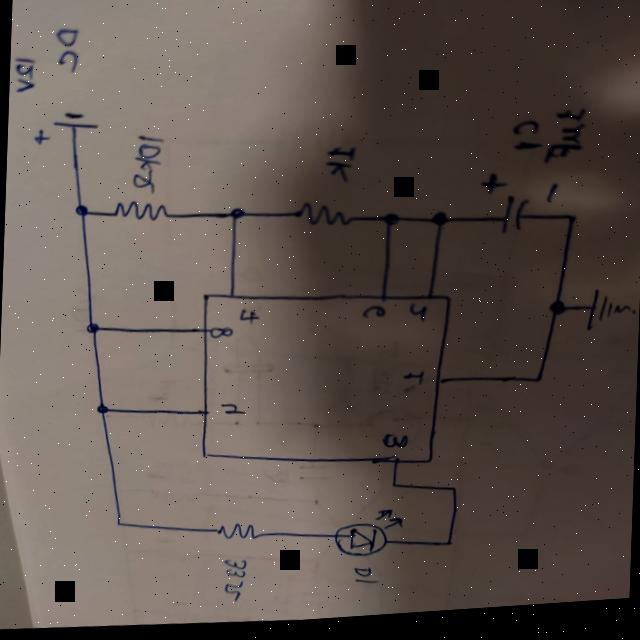capacitor: (478, 177, 556, 241)
diode: (332, 512, 402, 564)
ground: (582, 291, 636, 344)
junction: (544, 303, 565, 327), (68, 202, 92, 220), (426, 216, 447, 234), (561, 218, 581, 235), (80, 321, 101, 337), (109, 517, 129, 531), (527, 380, 547, 394), (226, 208, 243, 224), (379, 217, 396, 233), (386, 482, 404, 496), (91, 404, 108, 418), (444, 489, 459, 503), (438, 544, 454, 556)
resistor: (289, 202, 356, 239), (108, 199, 167, 226), (212, 521, 259, 551)
source: (29, 109, 96, 149)
text: (510, 111, 588, 174), (126, 137, 160, 190), (318, 148, 356, 189), (218, 559, 245, 606), (50, 29, 76, 71), (11, 55, 36, 94), (350, 568, 374, 589), (378, 438, 408, 454), (206, 327, 232, 344), (215, 406, 245, 420), (360, 309, 388, 322), (404, 308, 426, 324), (236, 311, 256, 327), (400, 375, 420, 391)
